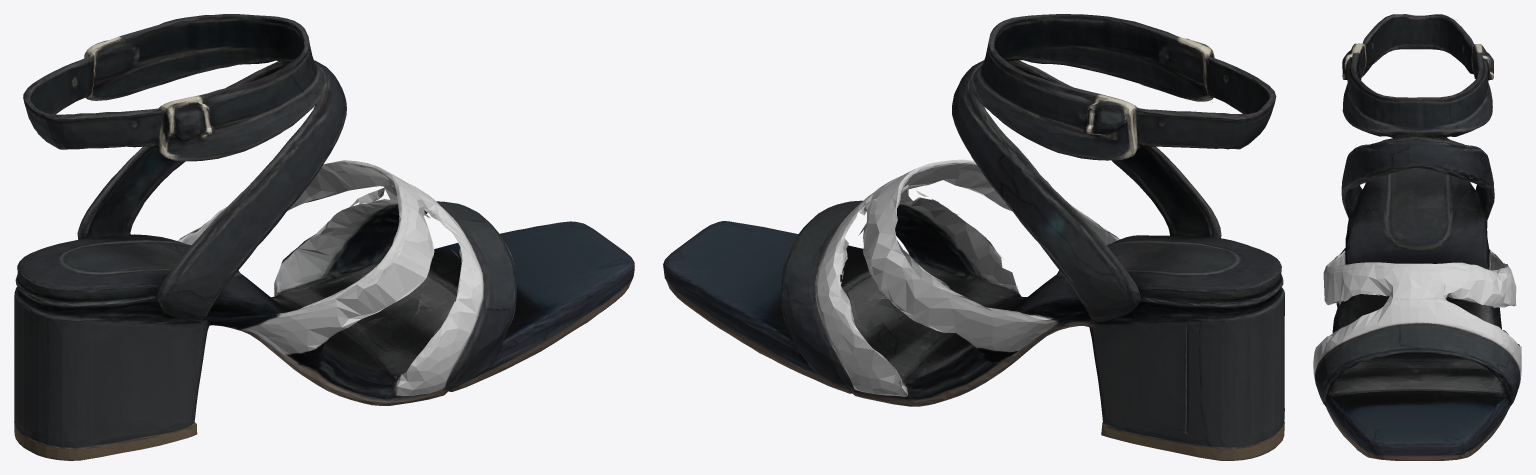
The picture shows the model from 3 angles, left to right: view 1: azimuth 30°, elevation 25°; view 2: azimuth 150°, elevation 25°; view 3: azimuth 270°, elevation 25°; orthographic projection. The views are drawn at different scales.
Parts seen in each view (by area): view 1: world; view 2: world; view 3: world.
Boxes of the visible parts, x1=… form: world: x1=14, y1=14, x2=634, y2=460; world: x1=663, y1=14, x2=1284, y2=460; world: x1=1313, y1=14, x2=1521, y2=460.
Bounding box in the file's own units: 1 × 0.5808 × 0.3958.
Materials: 1 (1 with a texture image).
